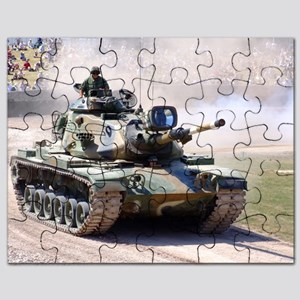Battle Tank: (8, 93, 249, 238)
